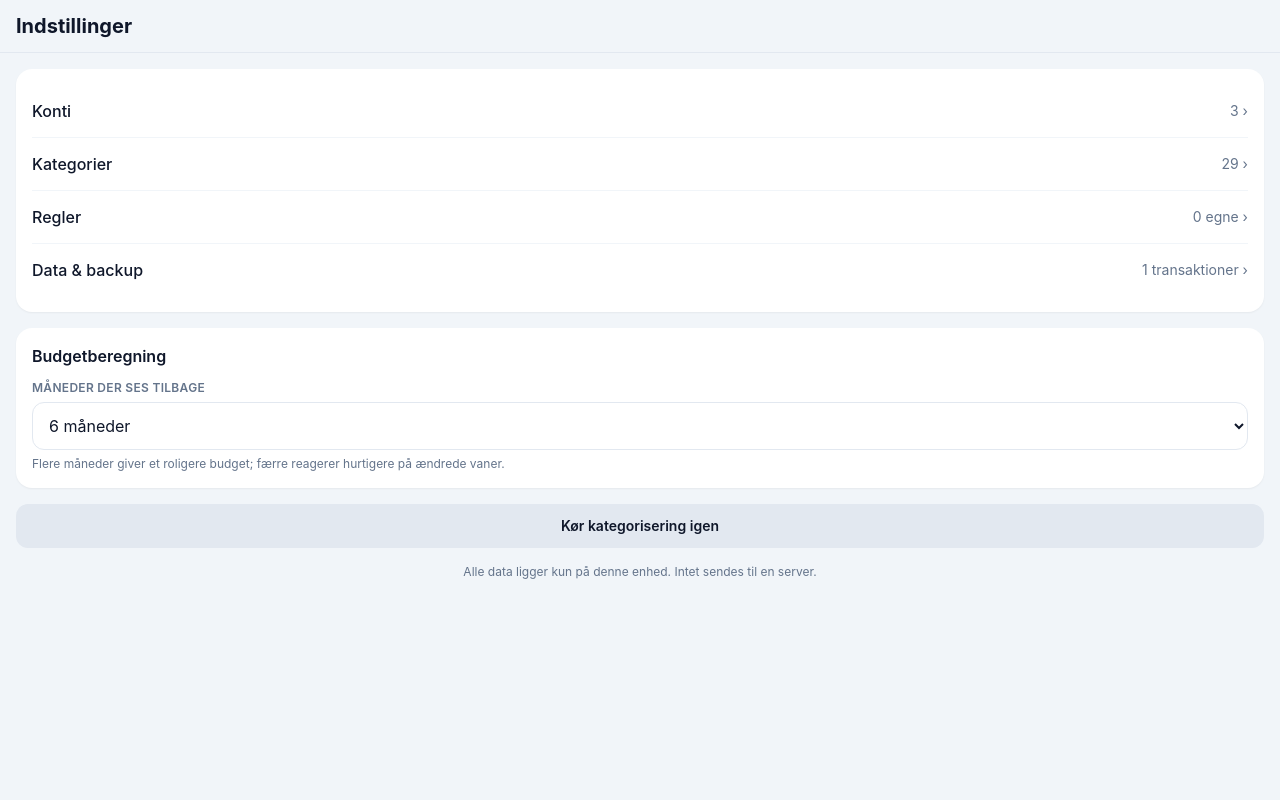
Scenario: ordering categories › gives a system category no drag handle
The width and height of the screenshot is (1280, 800).
Click the button "Kategorier 29 ›": click(72, 164) [32,137,1248,190]
(page scrolled)
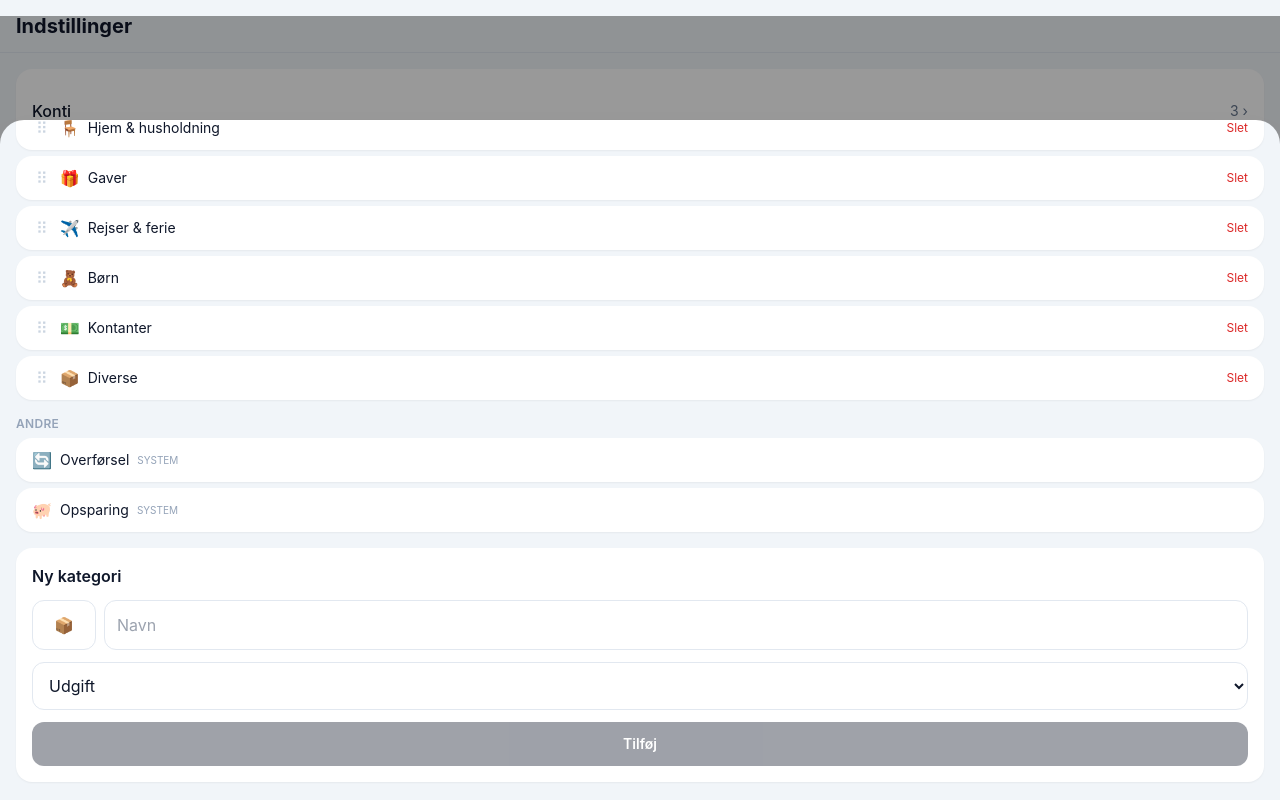
Result: the button "🔄 Overførsel SYSTEM" is shown at [32,448,1248,472]
